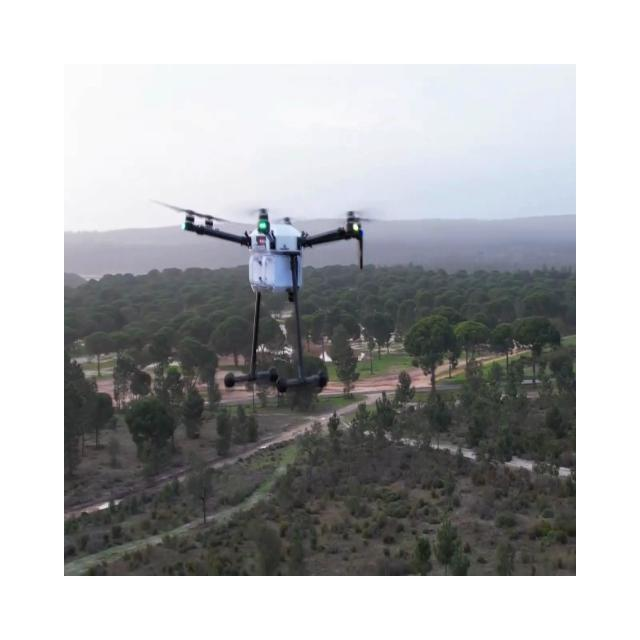drone: (149, 197, 375, 399)
